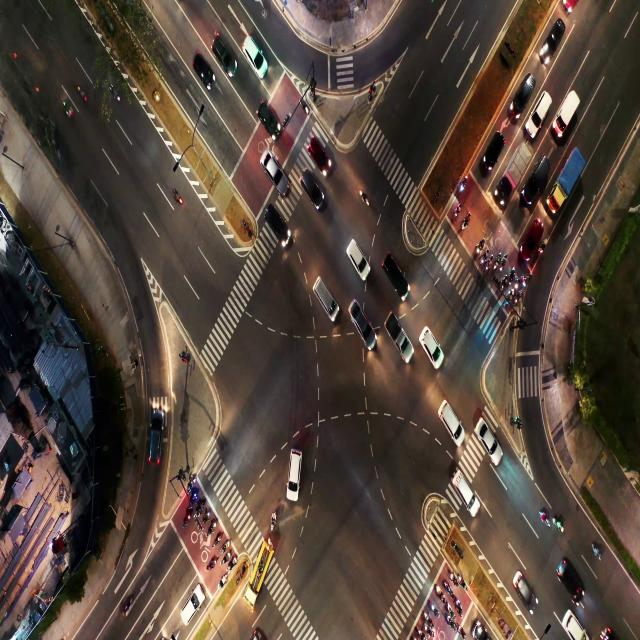bus: (258, 553, 266, 576)
car: (483, 429, 496, 458), (316, 287, 331, 308), (354, 311, 370, 328), (486, 139, 501, 157), (535, 98, 547, 119), (290, 456, 300, 481), (525, 226, 538, 245), (518, 570, 530, 590), (351, 244, 364, 261), (444, 407, 455, 426), (564, 565, 574, 585), (566, 616, 578, 632), (428, 333, 436, 356), (217, 44, 227, 62), (187, 596, 197, 614), (388, 255, 396, 277), (247, 36, 256, 54), (261, 102, 270, 120), (154, 418, 160, 444), (267, 155, 277, 170), (270, 215, 282, 227), (305, 178, 317, 190), (459, 486, 472, 496), (195, 58, 205, 70), (550, 32, 560, 44), (520, 87, 529, 100), (312, 140, 318, 156), (535, 172, 541, 188)
motorcycle: (267, 509, 278, 529), (110, 87, 120, 106), (173, 188, 184, 205), (457, 623, 468, 640), (76, 85, 87, 101), (554, 514, 564, 530), (538, 511, 547, 528), (218, 572, 226, 590), (64, 96, 70, 118), (11, 45, 17, 67), (32, 74, 38, 94), (361, 190, 367, 208), (452, 207, 459, 220), (462, 216, 468, 229), (459, 181, 466, 192), (447, 584, 454, 595), (457, 600, 462, 615), (447, 616, 453, 628), (303, 102, 310, 112), (596, 545, 600, 561), (125, 600, 132, 609), (509, 273, 514, 285), (189, 477, 194, 488), (430, 601, 436, 610), (423, 614, 432, 620), (210, 521, 214, 534), (184, 514, 189, 524), (496, 259, 500, 271), (501, 258, 504, 274), (214, 536, 218, 547), (479, 242, 483, 253), (224, 552, 228, 562), (502, 277, 506, 287), (508, 293, 512, 303), (426, 625, 430, 635), (222, 543, 226, 552), (210, 557, 213, 569), (416, 627, 421, 634), (199, 505, 203, 513), (482, 254, 486, 262), (524, 280, 528, 288), (460, 577, 464, 585), (437, 588, 441, 596), (452, 573, 455, 582), (229, 559, 232, 567), (193, 493, 196, 500), (206, 512, 208, 522), (516, 294, 518, 303), (488, 260, 490, 268), (449, 604, 451, 612), (516, 281, 518, 288), (541, 244, 543, 249)
truck: (387, 319, 406, 350), (563, 167, 572, 191), (507, 163, 515, 184), (562, 106, 570, 127)
